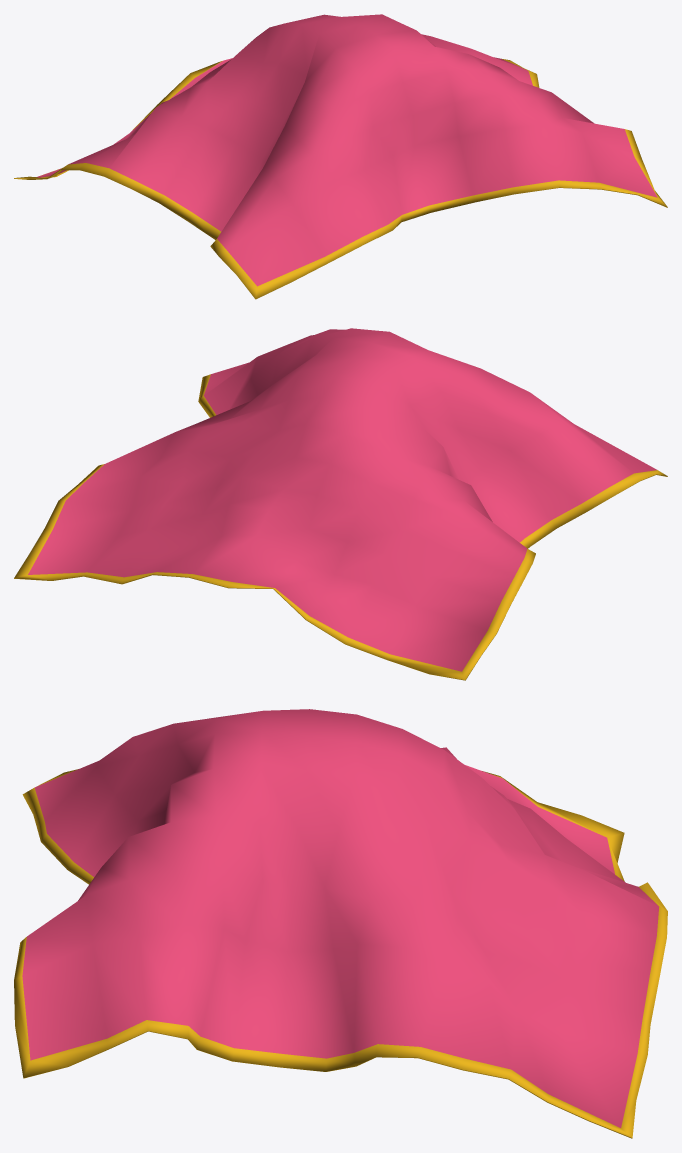
Rendered from Net_4_28.fbx.
The picture shows the model from 3 angles, top to bottom: view 1: azimuth 30°, elevation 25°; view 2: azimuth 150°, elevation 25°; view 3: azimuth 270°, elevation 25°; orthographic projection. The views are drawn at different scales.
Parts seen in each view (by area): view 1: Plane.001; view 2: Plane.001; view 3: Plane.001.
Boxes of the visible parts, x1,y1,x2,y2 form: Plane.001: (14,14,667,299); Plane.001: (14,328,667,680); Plane.001: (14,709,667,1138).
Size of the model in its own units: 624 by 252 by 578.
